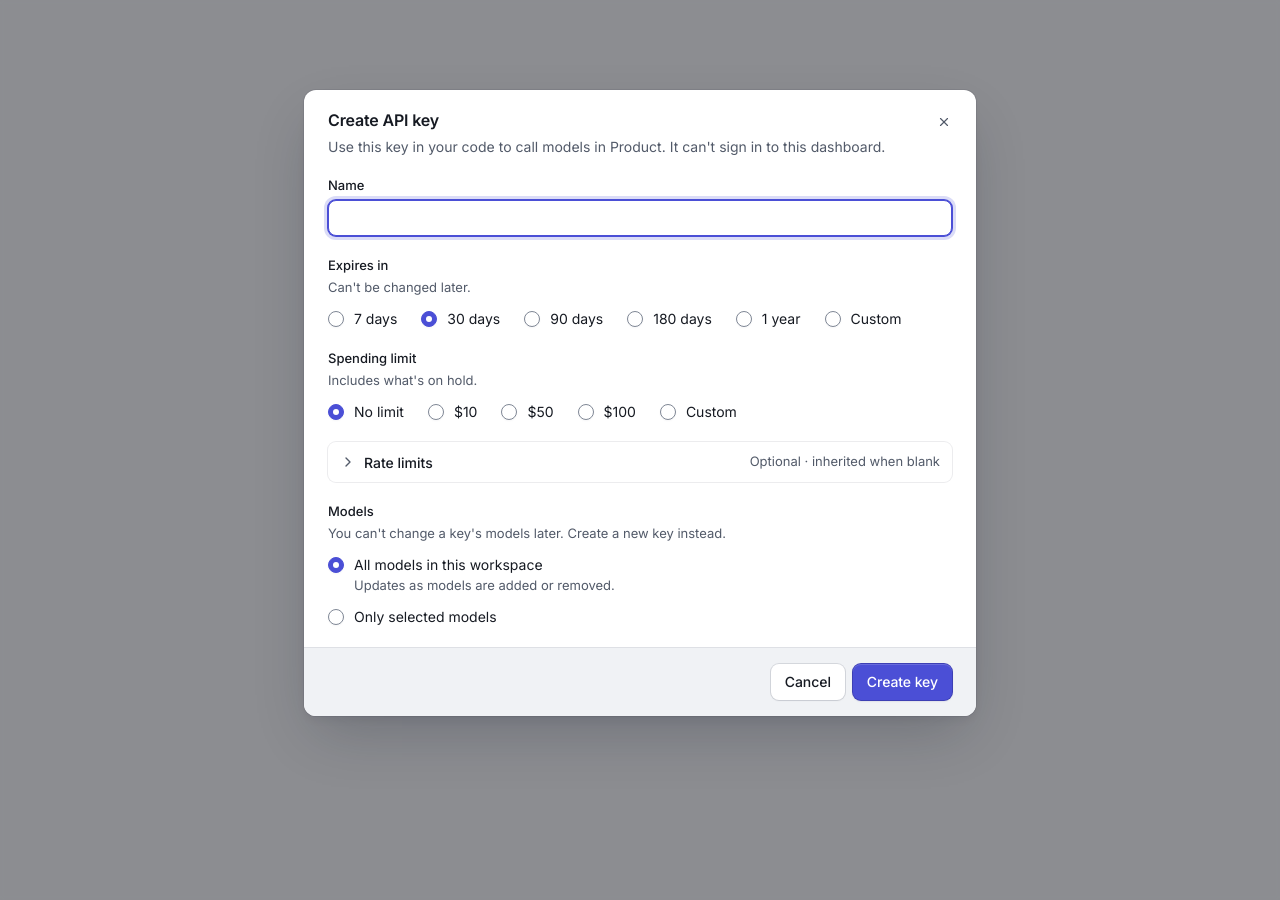
Test case: CreateKeyDialog submit lifetime › blocks a valid retained submit after explicit cancel
This screenshot has width=1280, height=900.
Type "  CLI  " into the field labelled "Name" at coordinates (640, 218), box [328,200,952,236]
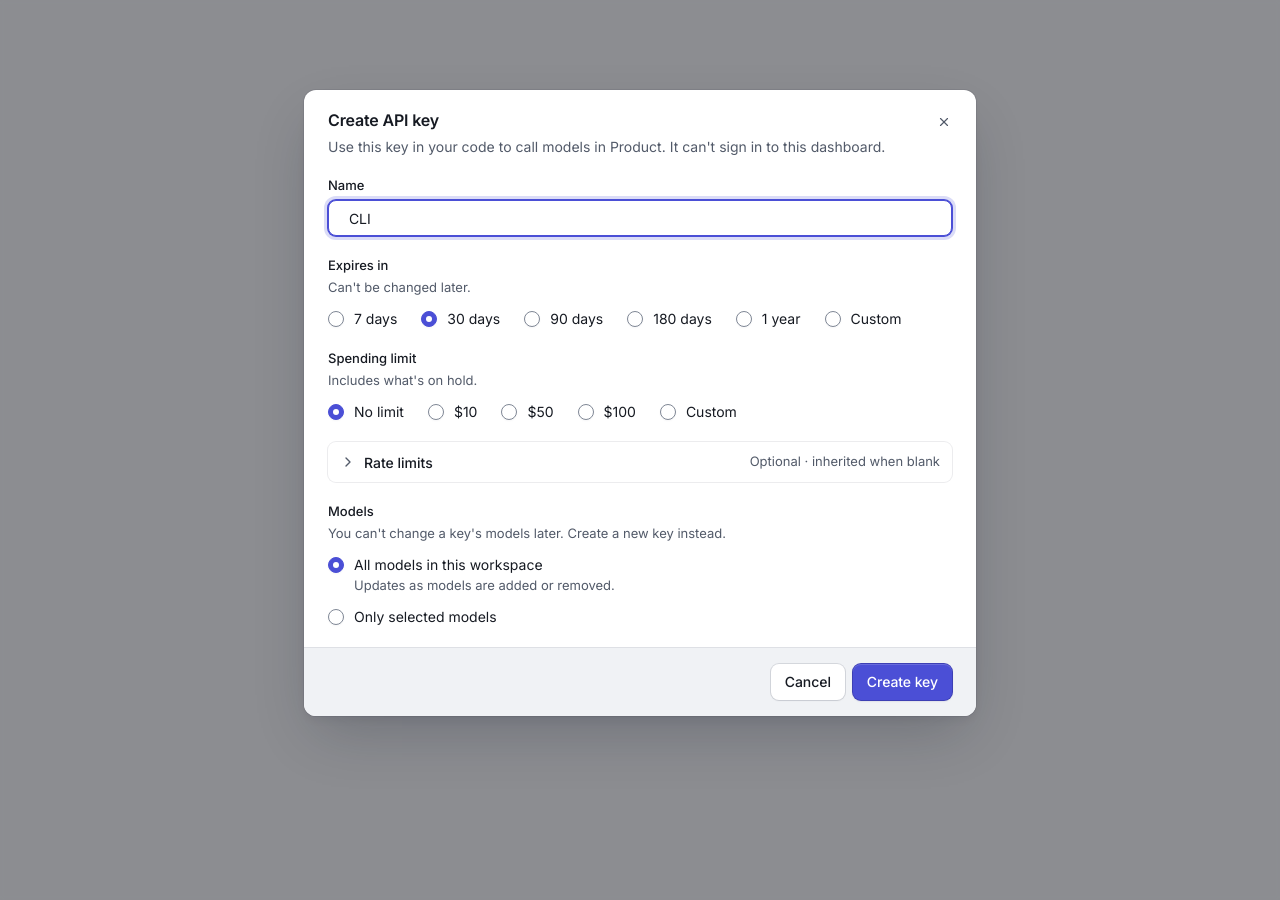
Click the button "Cancel" at coordinates (808, 682), box [771,664,845,700]
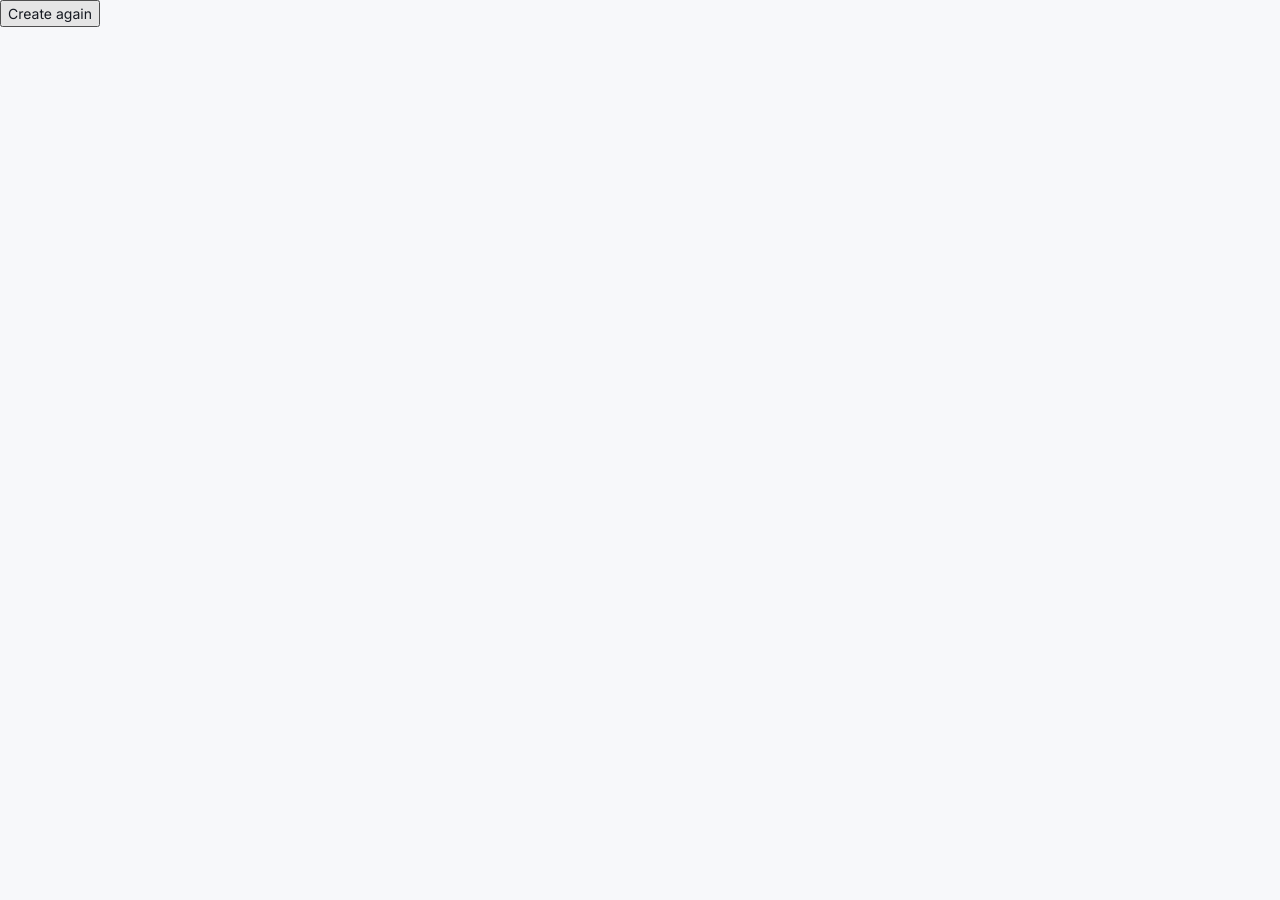
Check: the dialog is gone
Check: the heading "API key" is gone
